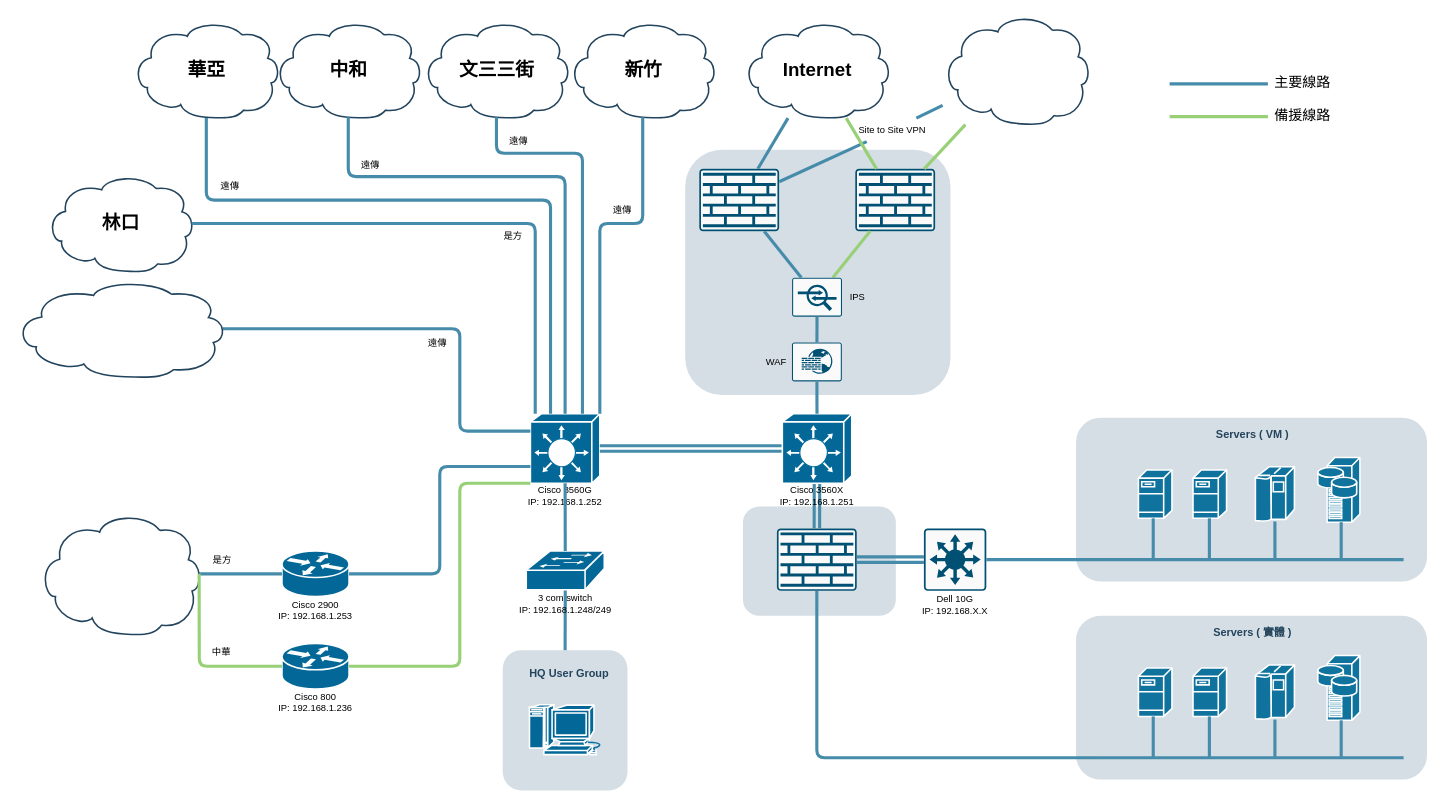
Image size: 1440x804. Some labels were removed from this diagram. Each missing label, with the centre of its shape:
"VX1200 Lync to 手機、市話" goes at (120,328).
"浩興昆山 浩興深圳 深圳耕興" goes at (120,573).
"美國 福永 東莞" goes at (1016,69).
